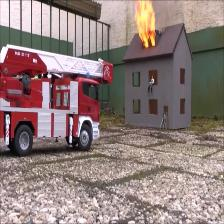fire: (134, 2, 161, 48)
